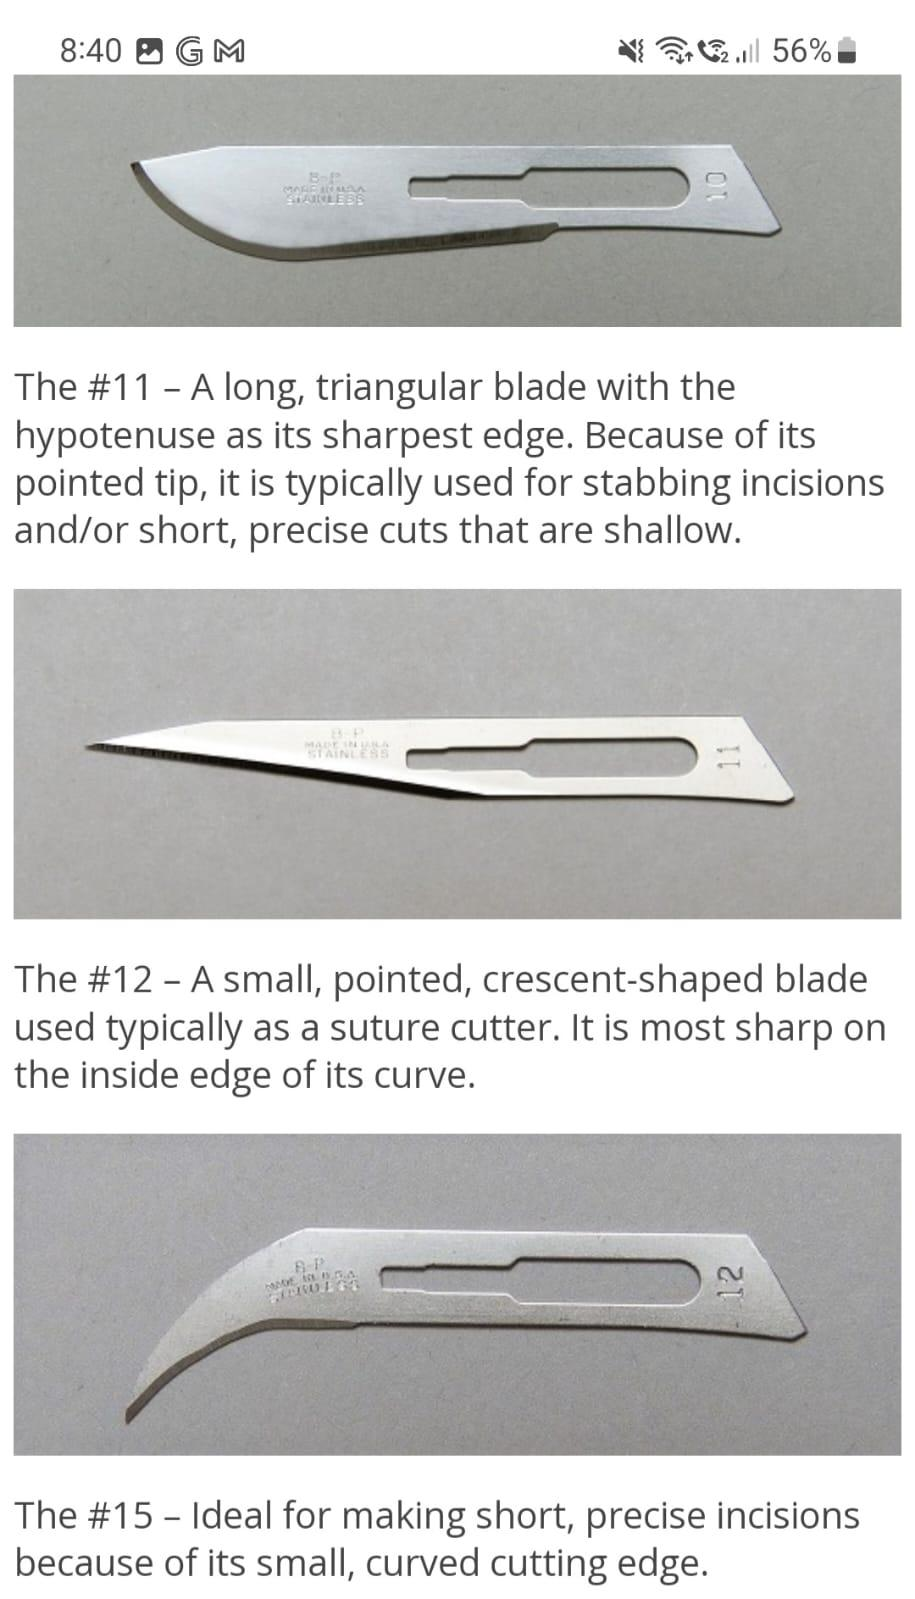Surgical blade: (118, 1208, 830, 1438), (123, 98, 792, 290), (67, 662, 810, 830)
